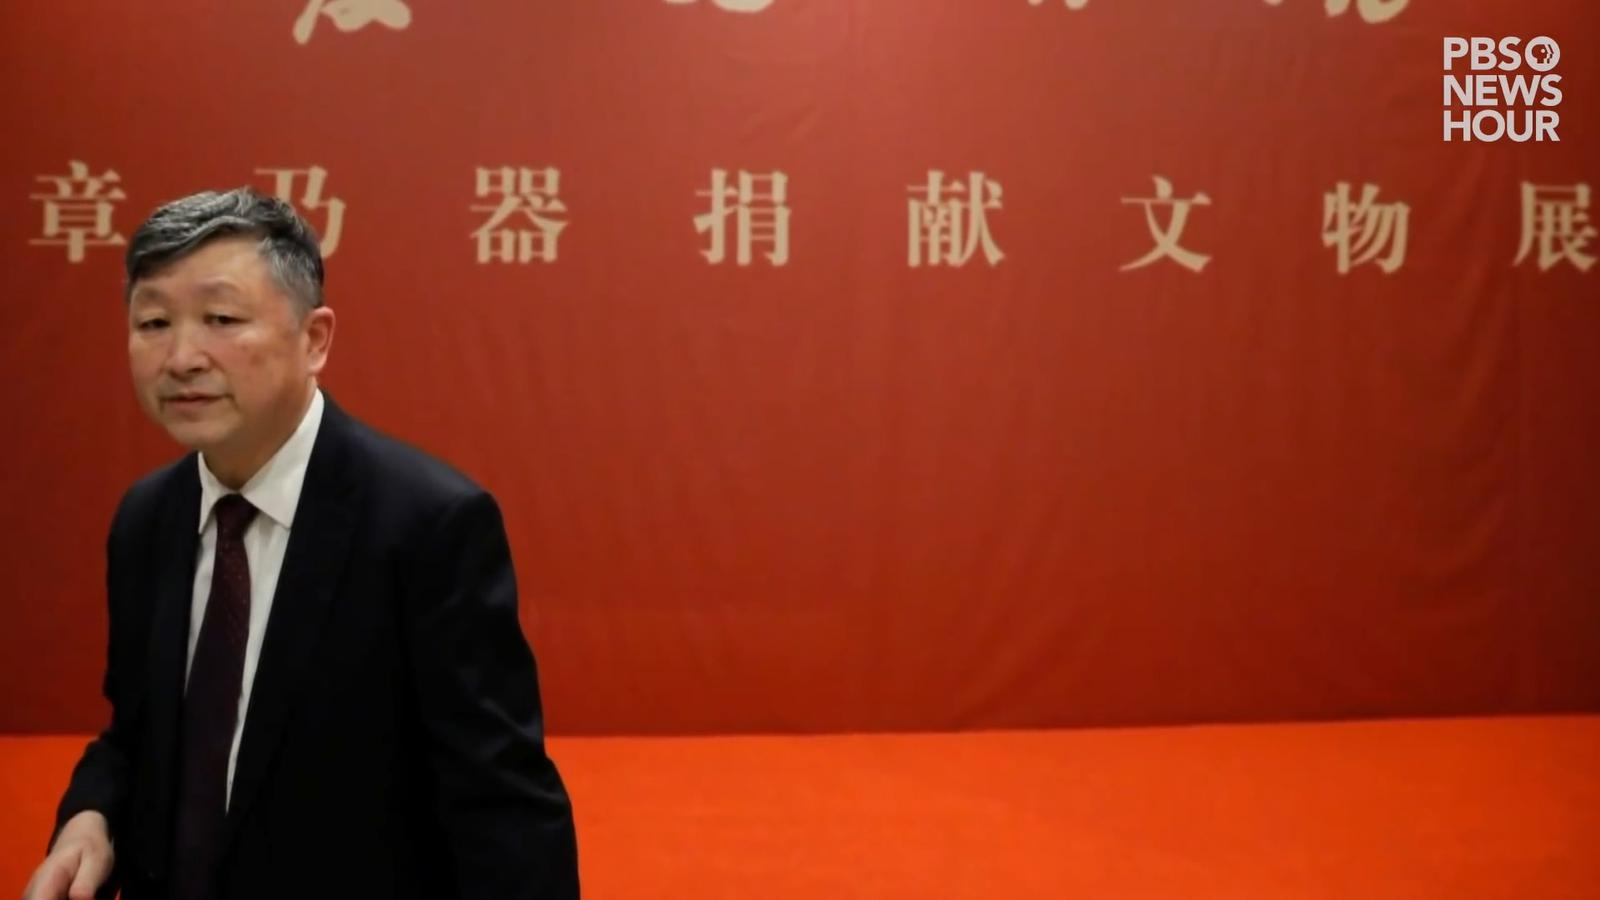without_mask: (142, 269, 268, 411)
